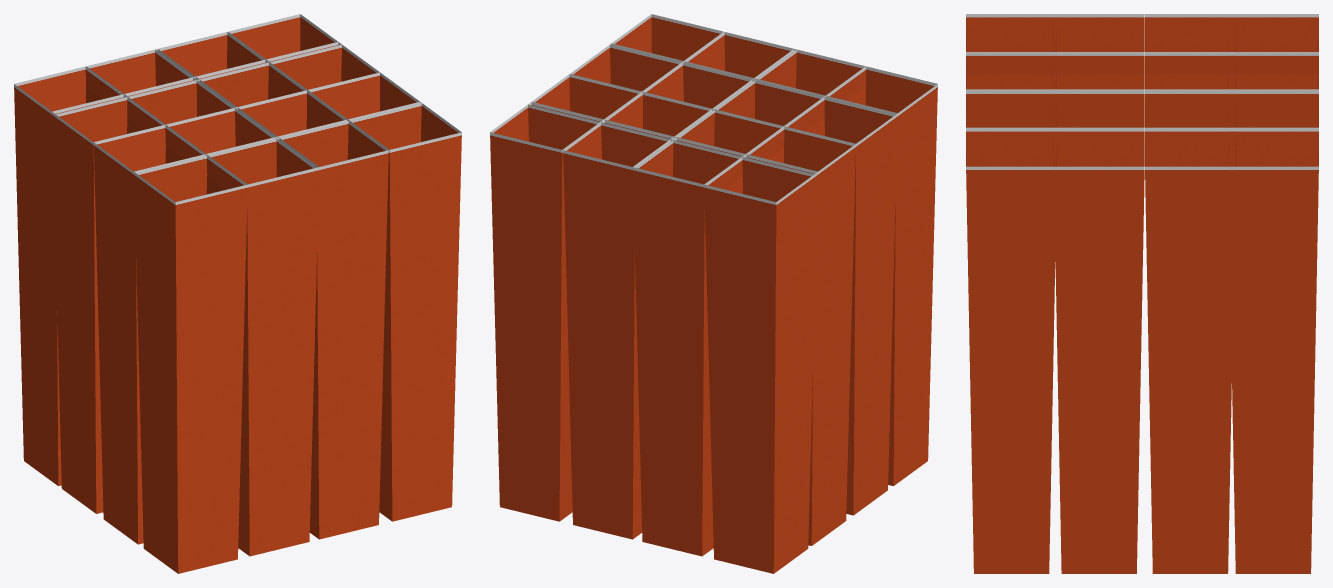
The model's file is FloorOpenLight.FBX.
The picture shows the model from 3 angles, left to right: view 1: azimuth 30°, elevation 25°; view 2: azimuth 150°, elevation 25°; view 3: azimuth 270°, elevation 25°; orthographic projection. The views are drawn at different scales.
Parts seen in each view (by area): view 1: L_R_13; view 2: L_R_13; view 3: L_R_13.
Boxes of the visible parts, x1=… form: L_R_13: x1=14, y1=14, x2=461, y2=573; L_R_13: x1=490, y1=14, x2=937, y2=573; L_R_13: x1=966, y1=14, x2=1318, y2=573.
Bounding box in the file's own units: 340 × 427 × 333.
Materials: 1 (1 with a texture image).
